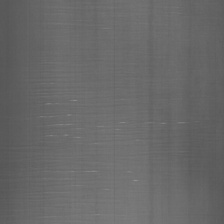waist_folding: (32, 10, 178, 209)
